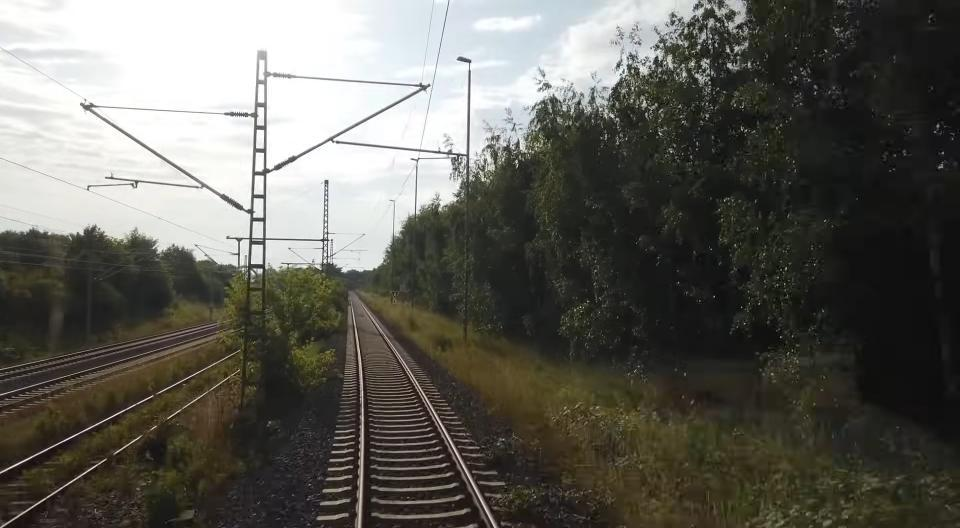Plant: (361, 293, 614, 461), (487, 477, 614, 528), (290, 341, 343, 391), (304, 281, 348, 338), (480, 435, 524, 473)
